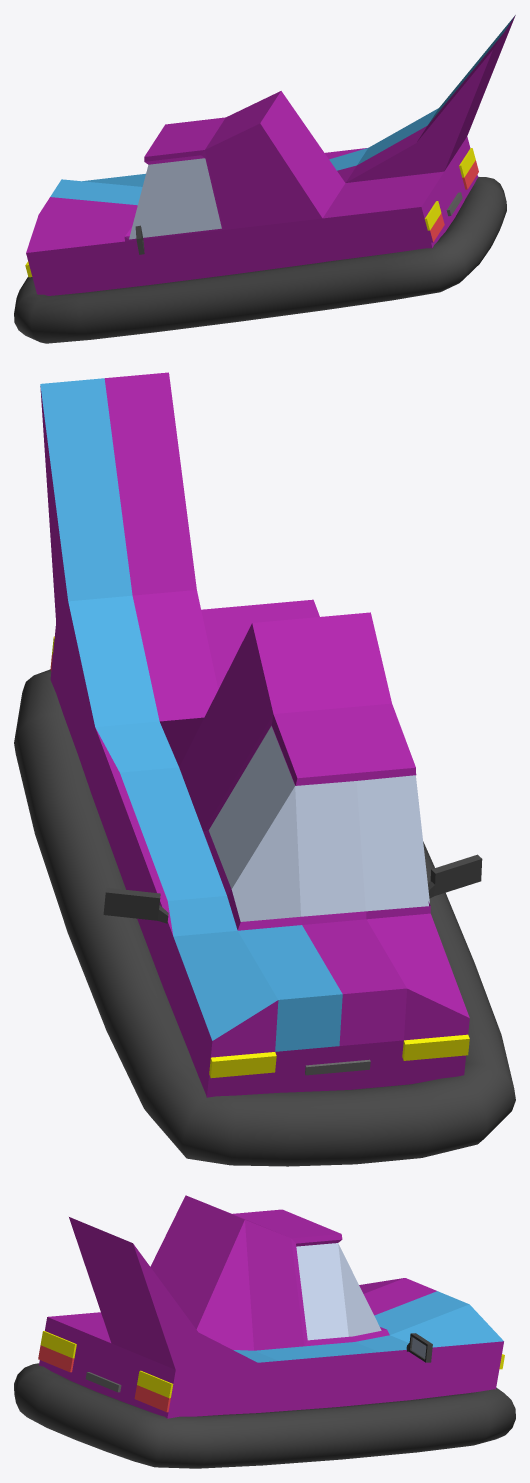
File: car8.fbx
3 views of the same model, one above another, from view 1: azimuth 30°, elevation 25°; view 2: azimuth 150°, elevation 25°; view 3: azimuth 270°, elevation 25° (orthographic). The views are drawn at different scales.
Visible parts, largest first — view 1: car.007, airCussion.007; view 2: car.007, airCussion.007, sideMirrorRight.007, sideMirrorLeft.007; view 3: car.007, airCussion.007, sideMirrorRight.007.
Boxes of the visible parts, box(x1,y1,x2,y2) form: car.007: box(25, 15, 515, 295); airCussion.007: box(14, 176, 506, 343); car.007: box(40, 372, 469, 1097); airCussion.007: box(14, 669, 515, 1166); sideMirrorRight.007: box(103, 887, 168, 923); sideMirrorLeft.007: box(428, 854, 482, 898); car.007: box(38, 1195, 504, 1418); airCussion.007: box(14, 1363, 515, 1468); sideMirrorRight.007: box(406, 1333, 432, 1362).
Bounding box in the file's own units: 88 × 66.67 × 88.29.
